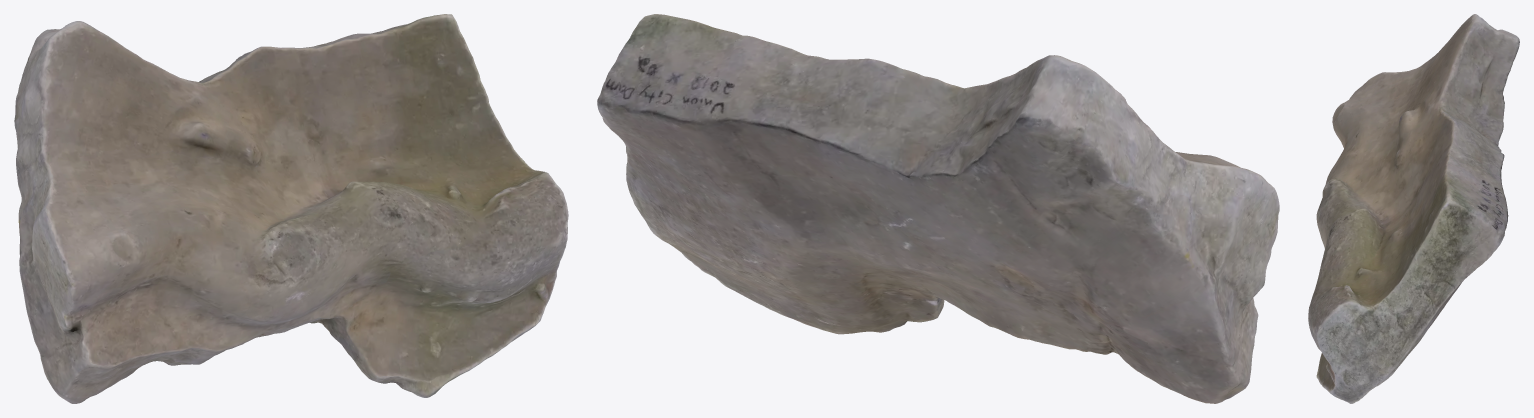
File: flute_cast.glb
3 views of the same model, side by side, from view 1: azimuth 30°, elevation 25°; view 2: azimuth 150°, elevation 25°; view 3: azimuth 270°, elevation 25° (orthographic). The views are drawn at different scales.
Visible parts, largest first — view 1: Object_2; view 2: Object_2; view 3: Object_2.
Boxes of the visible parts, box(x1,y1,x2,y2) form: Object_2: box(14, 14, 568, 403); Object_2: box(597, 14, 1279, 403); Object_2: box(1308, 14, 1519, 403).
Size of the model in its own units: 1.64 by 1.14 by 0.7975.
Materials: 1 (1 with a texture image).
